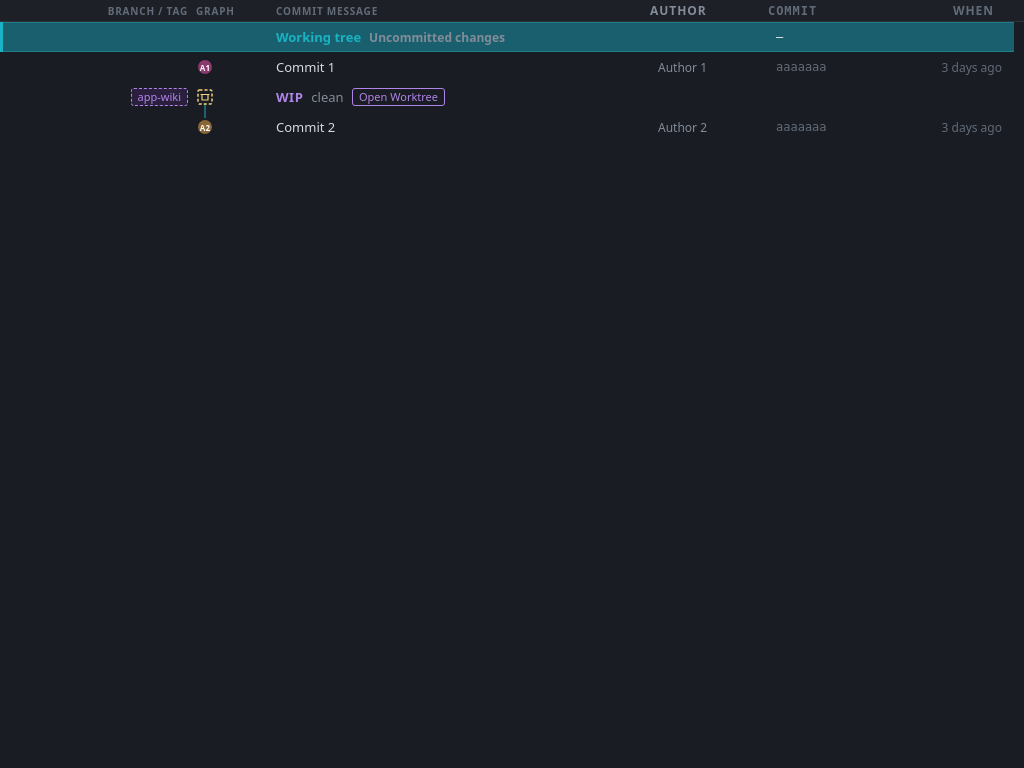
Scenario: another checkout on the timeline › its right-click menu (ADR-0065) › removes it after a confirmation, then offers to delete its branch
This screenshot has width=1024, height=768.
Right-click the button "app-wiki WIP clean Open Worktree": (159, 97) x1=0 y1=82 x2=1014 y2=112
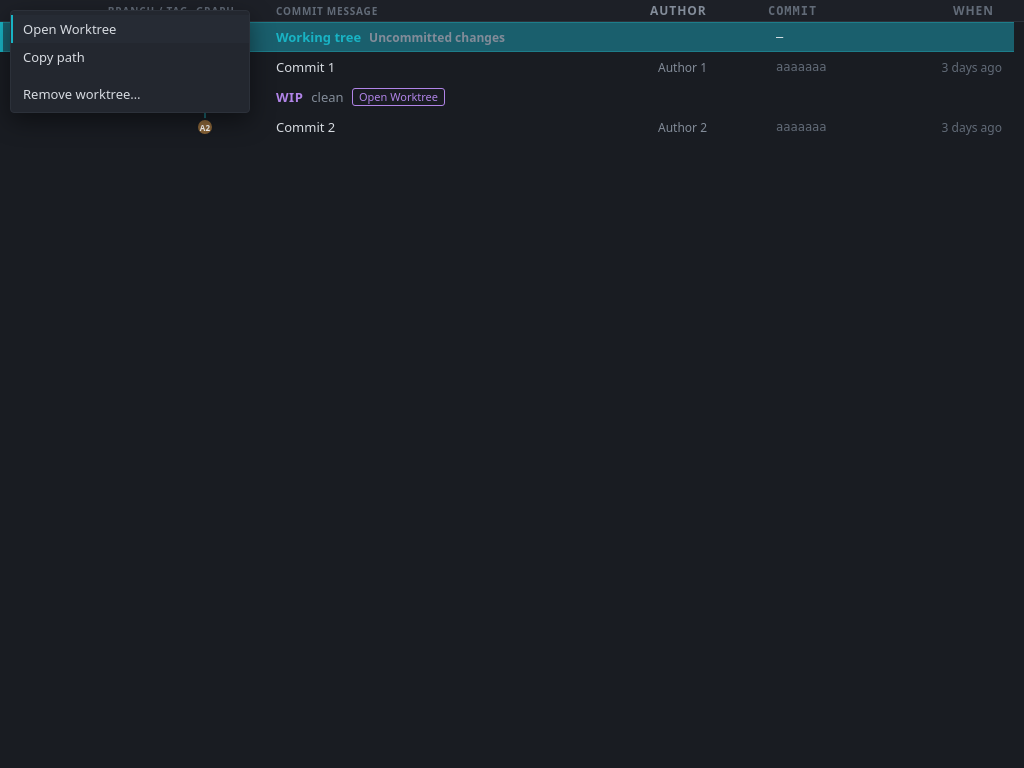
Click the menu item "Remove worktree…": (130, 94) x1=11 y1=80 x2=249 y2=108
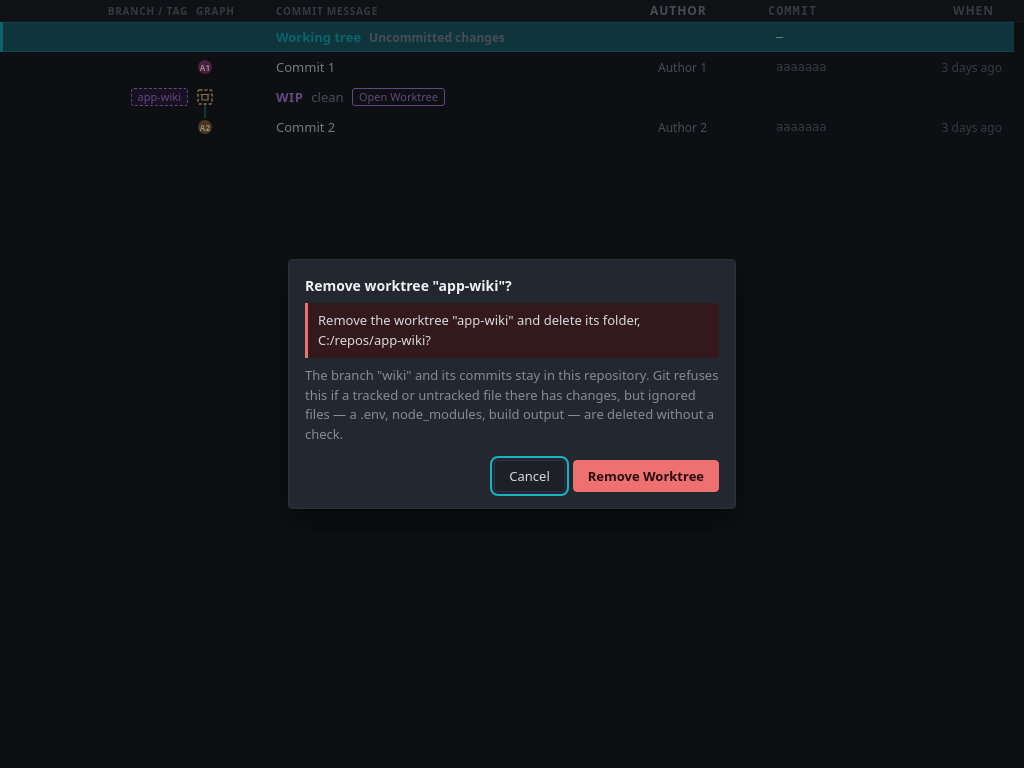
Click the button "Remove Worktree": (646, 476) x1=573 y1=460 x2=719 y2=492
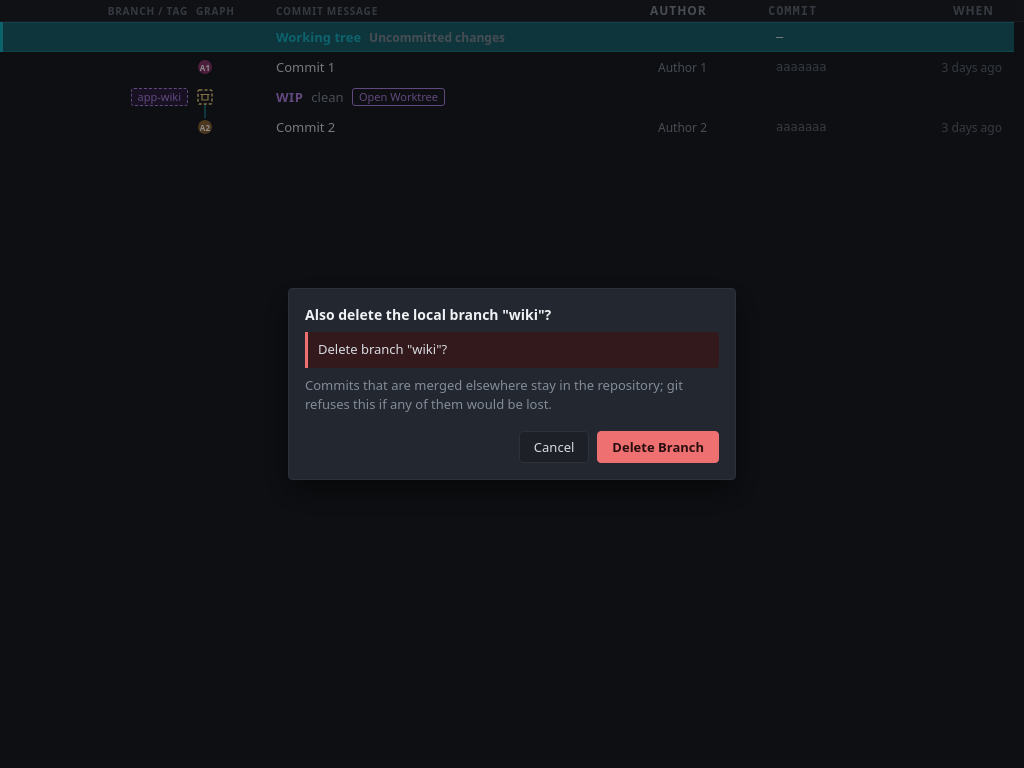
Expected: the dialog "Also delete the local branch \"wiki\"?" is shown, x1=288 y1=288 x2=736 y2=480
